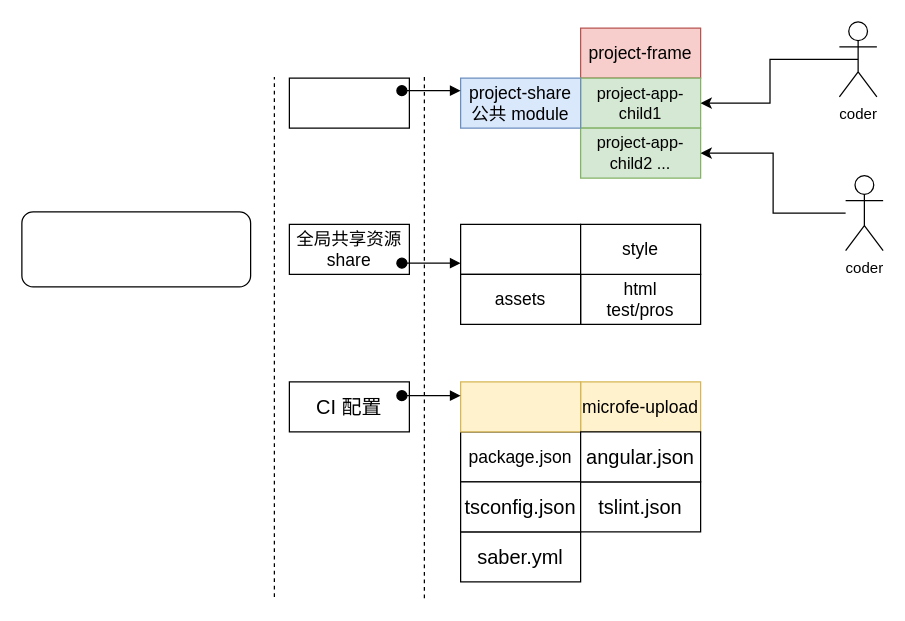
Image size: 905x621. Some labels were removed from this diagram. Here are the shapes that lost their labels. From the top down, the box of each, then its label:
(288, 77, 409, 128): projects
(21, 211, 251, 287): 脚手架 @ada/microfe-cli
(459, 223, 581, 274): enviroment
(459, 381, 581, 432): hack-runtime
